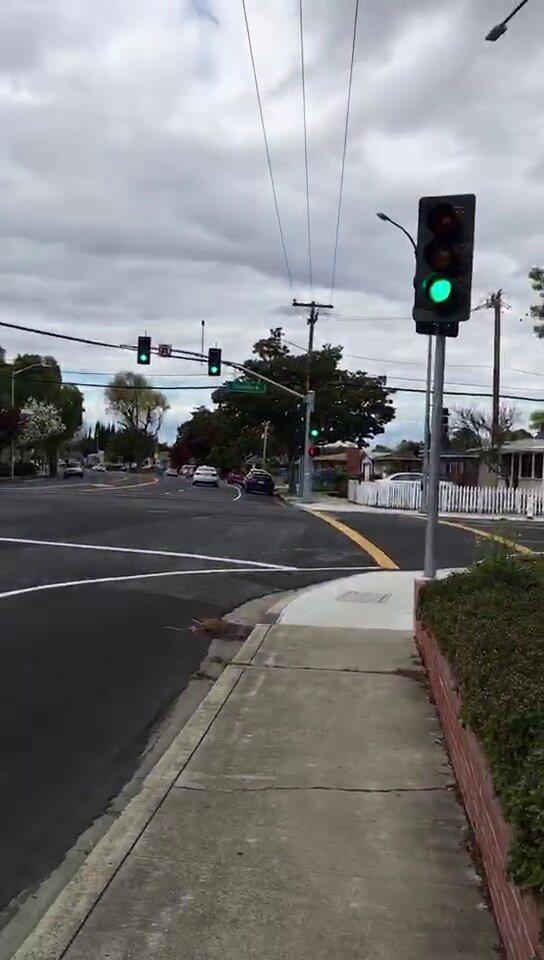green_light: (417, 196, 469, 320), (136, 336, 153, 366), (209, 350, 222, 376), (311, 411, 321, 439)
